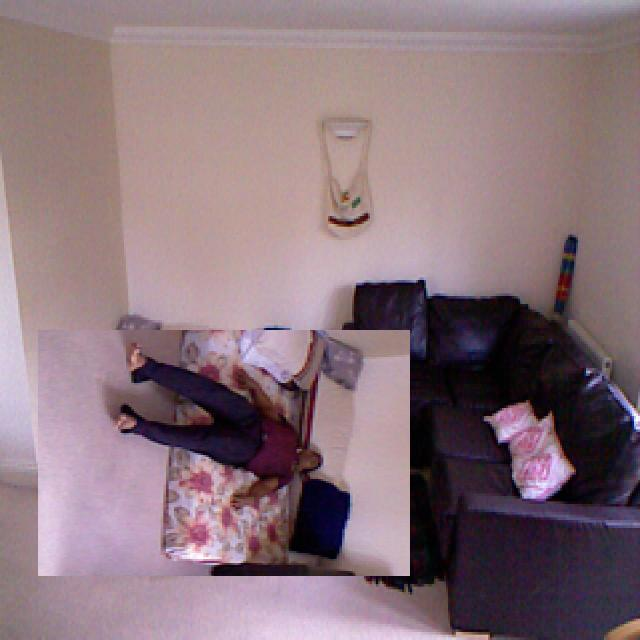Fall: (54, 333, 358, 500)
